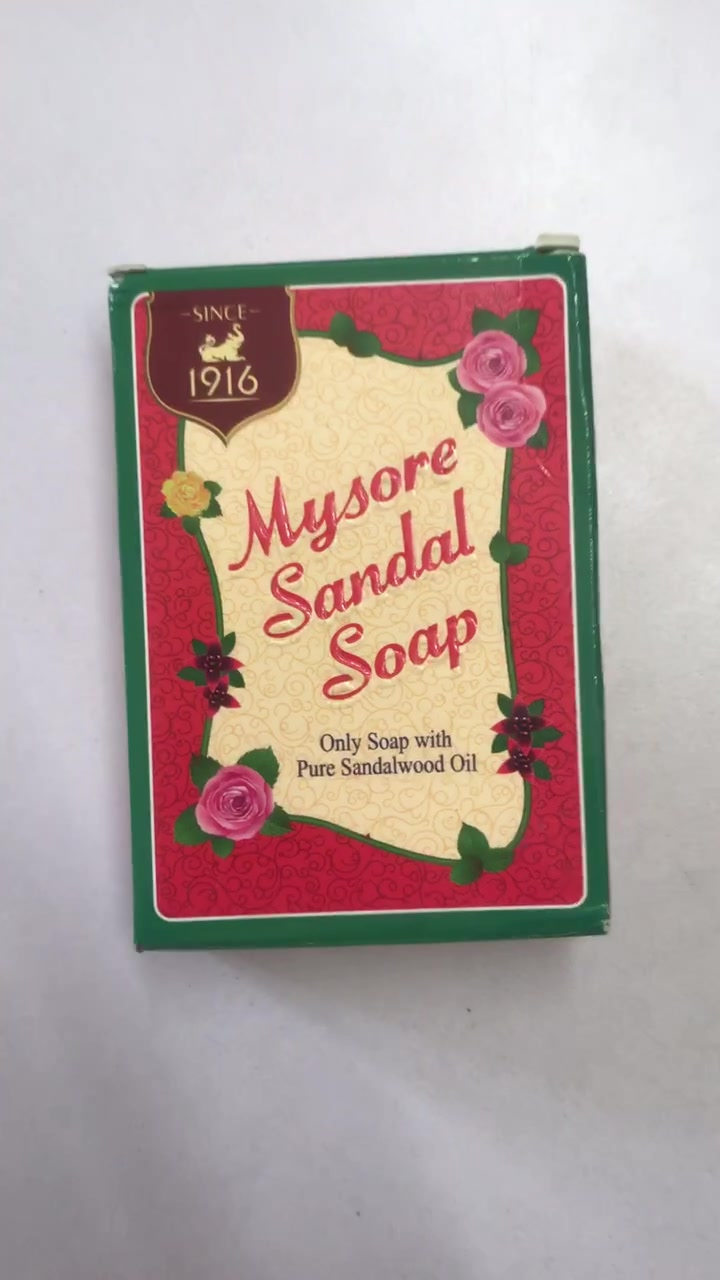mysore sandal soap: (103, 271, 610, 939)
